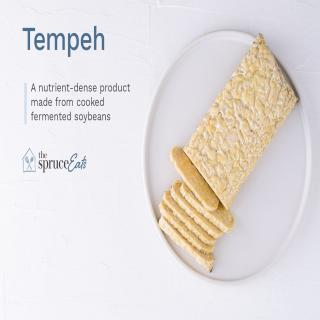Tempe: (158, 33, 300, 273), (170, 146, 220, 214)
